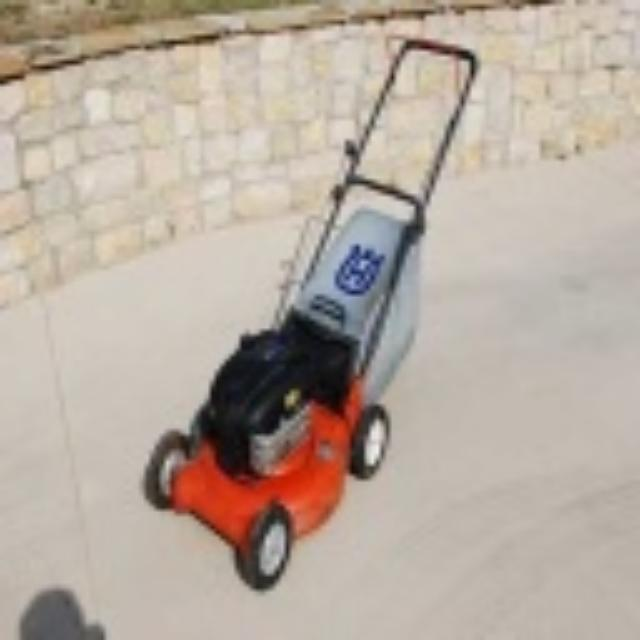Rotary-Mower: (140, 30, 480, 590)
